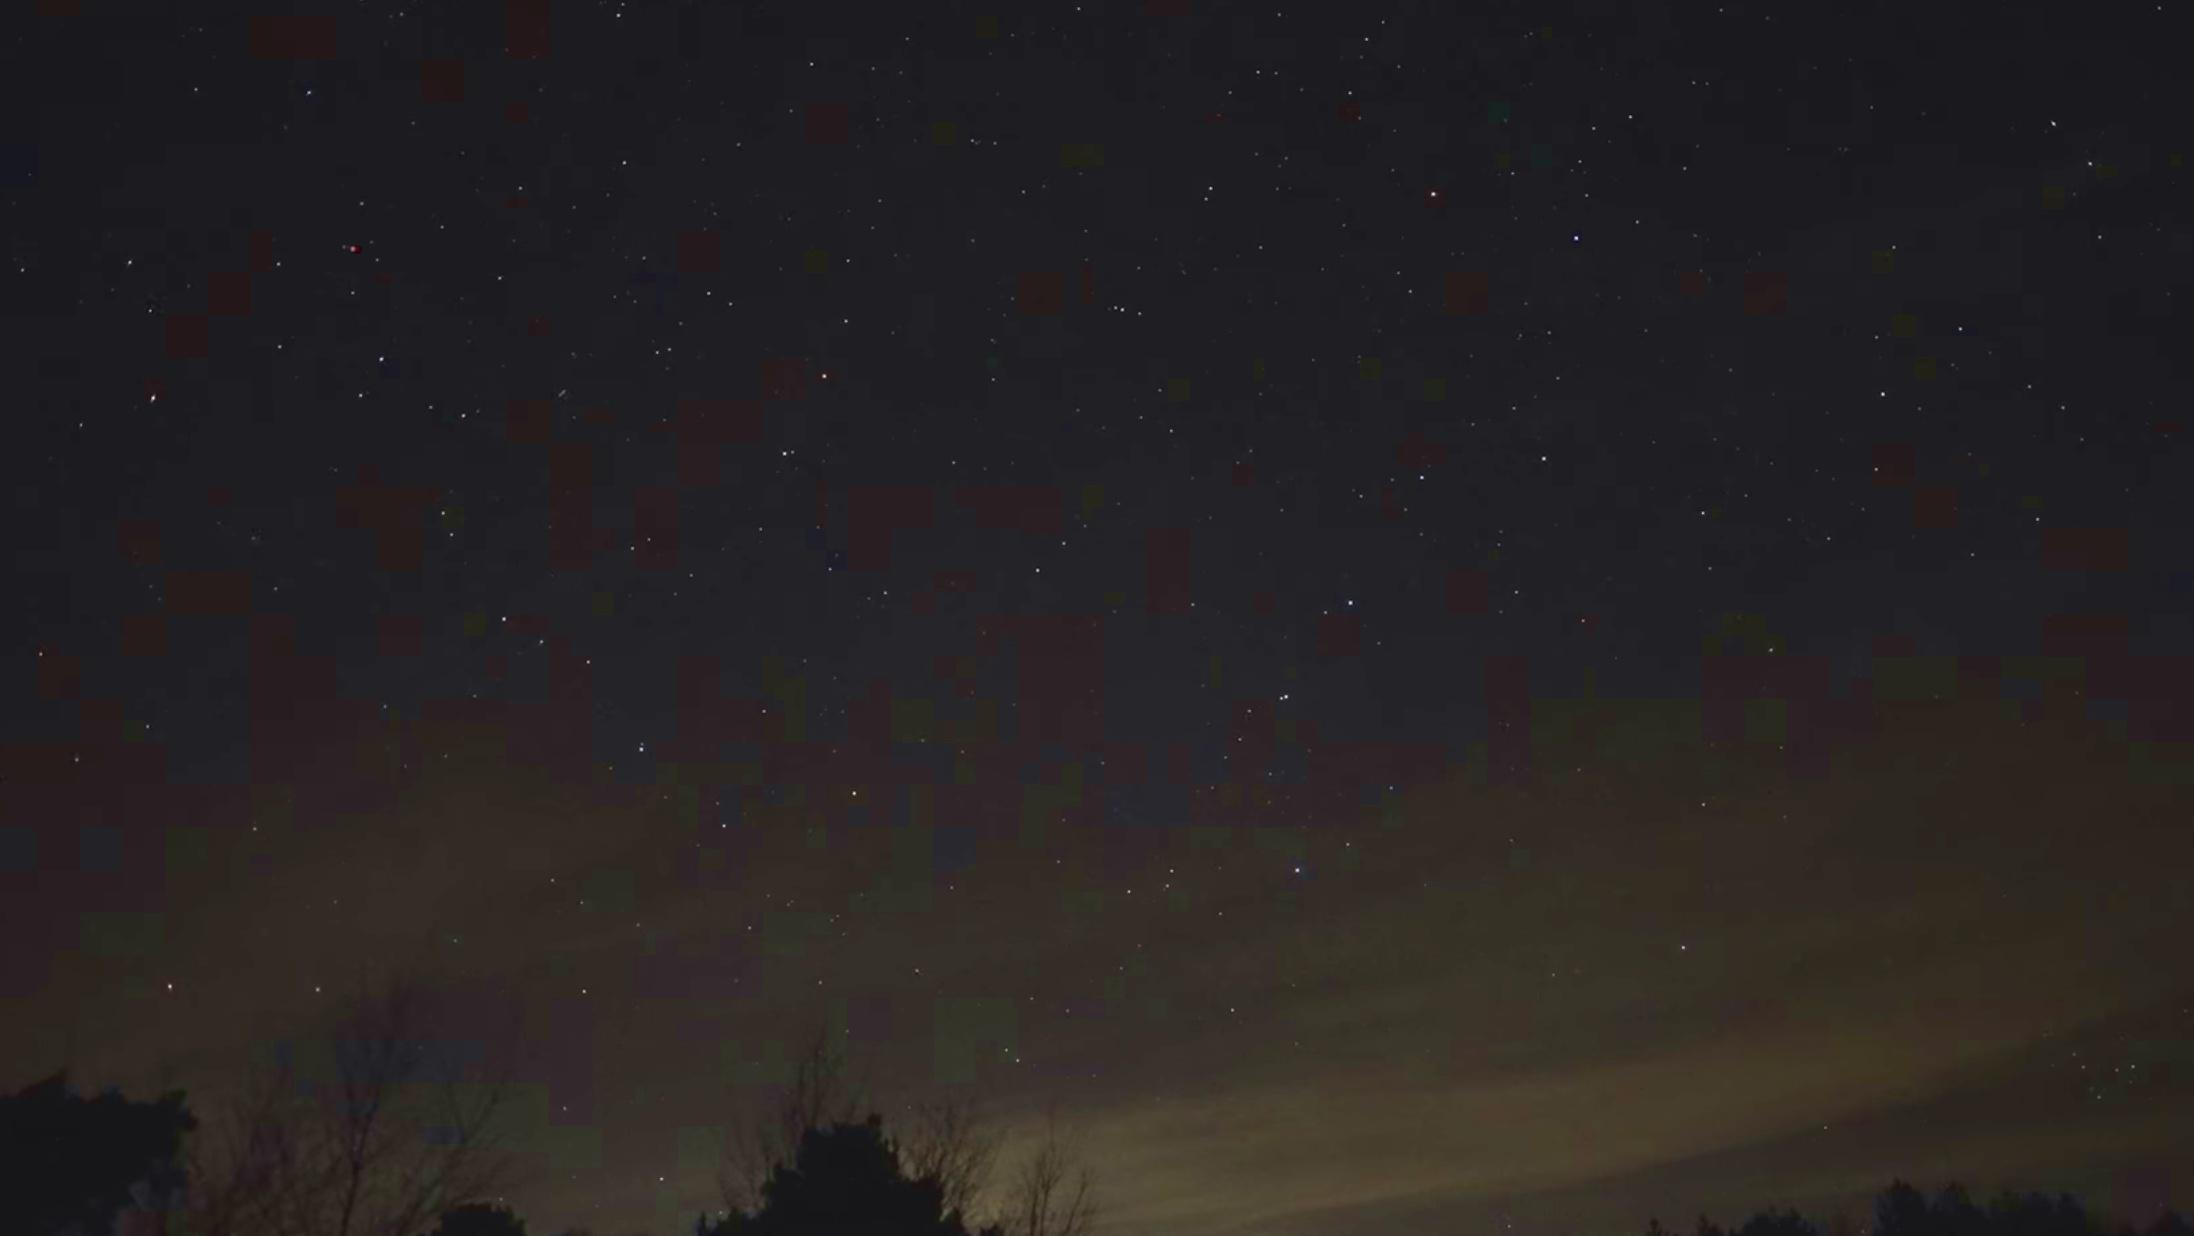Plane: (322, 223, 384, 267)
